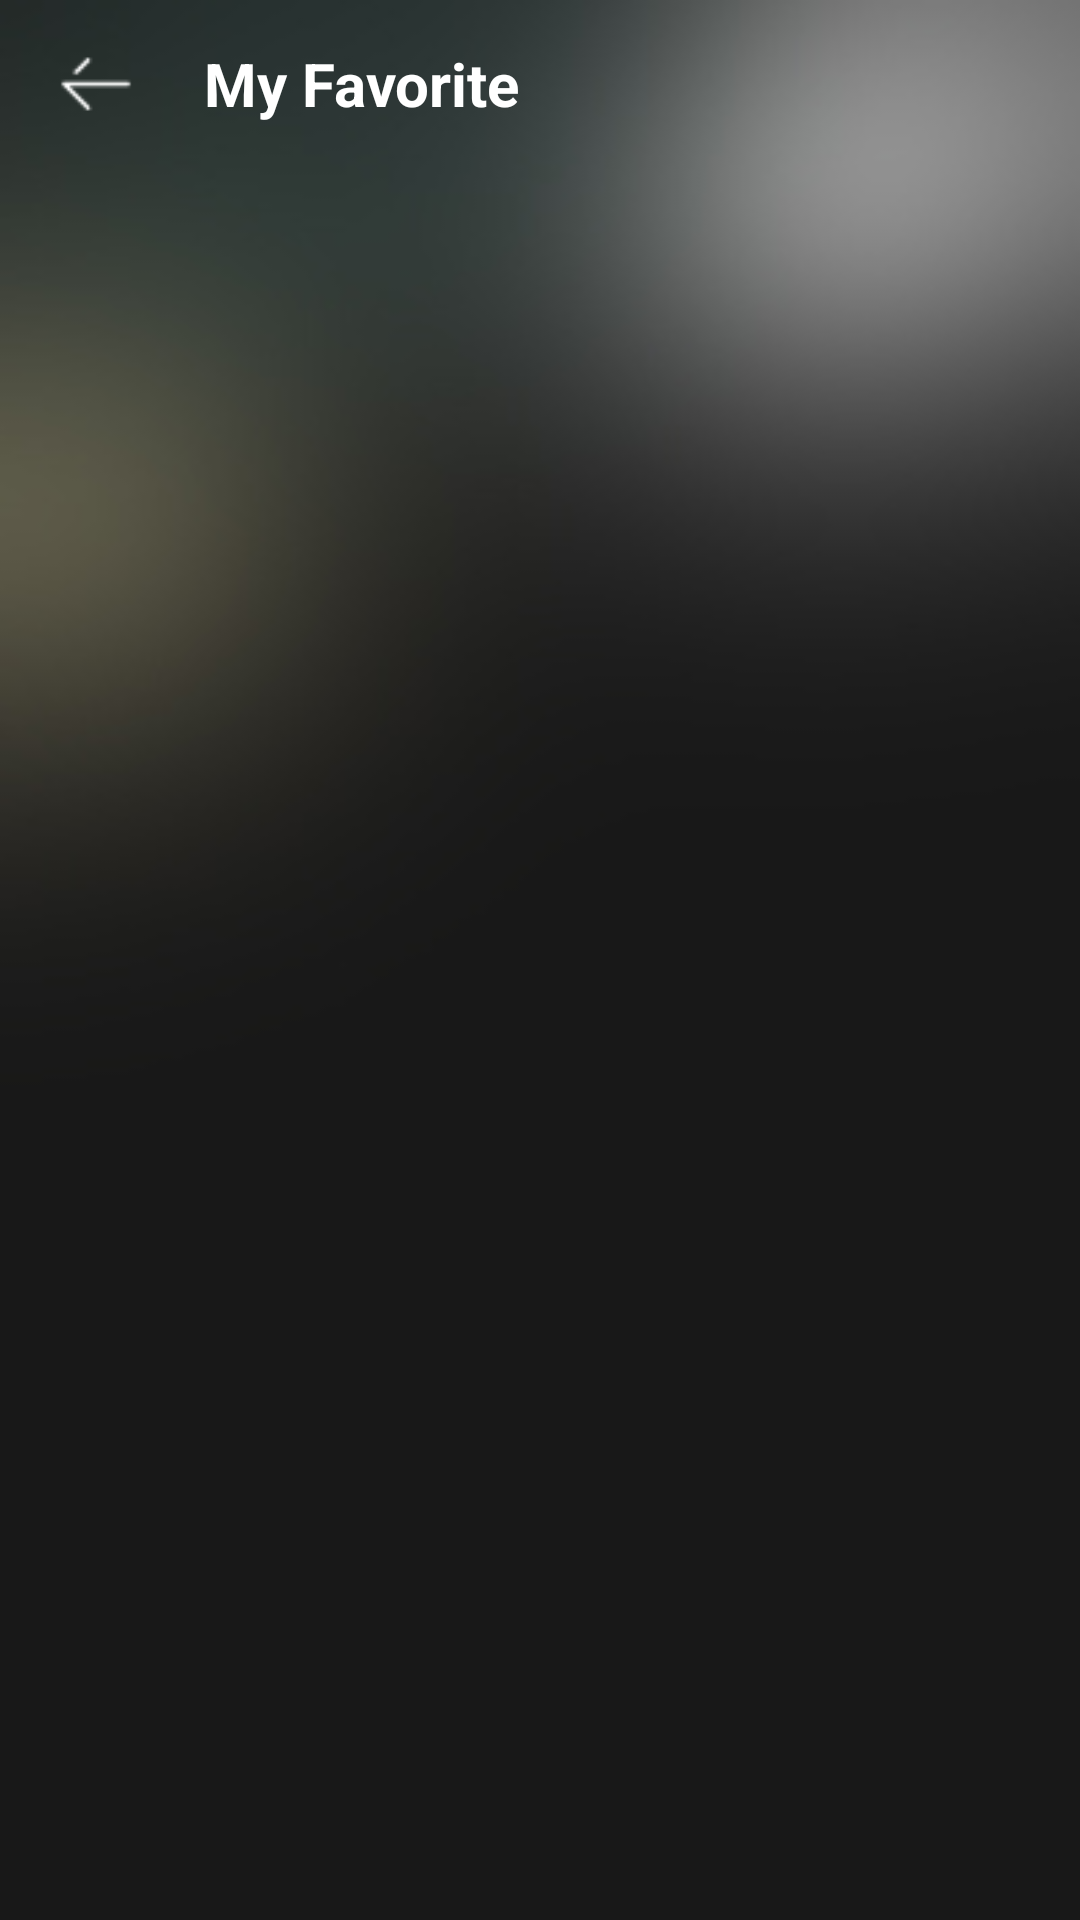

Named icons in this screenshot (1080px x 1920px) and their centers, (x,y):
arrow left: (96,84)
